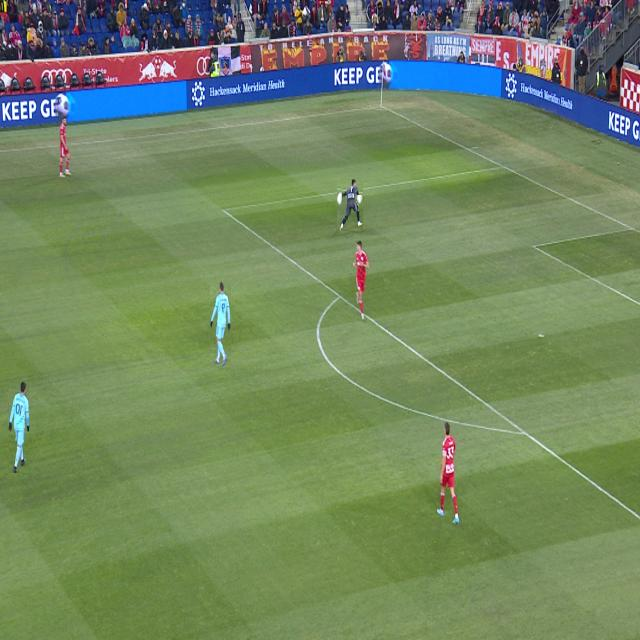football: (358, 196, 362, 204)
goalkeeper: (337, 179, 363, 231)
player: (437, 422, 459, 524), (9, 381, 29, 473), (210, 283, 231, 367), (353, 241, 369, 320), (59, 116, 71, 178)
